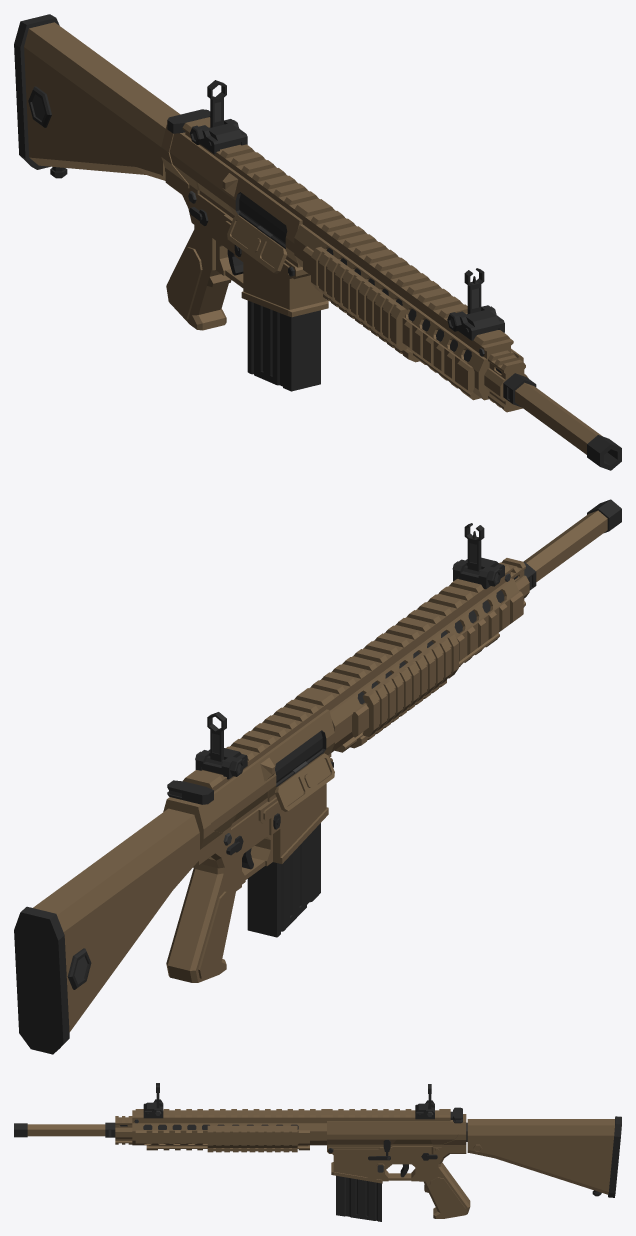
File: DMR_B.fbx
The picture shows the model from 3 angles, top to bottom: view 1: azimuth 30°, elevation 25°; view 2: azimuth 150°, elevation 25°; view 3: azimuth 270°, elevation 25°; orthographic projection. The views are drawn at different scales.
Visible parts, largest first — view 1: DMR_B_Stock, DMR_B_BarrelGuard, DMR_B_Receiver_Up, DMR_B_Receiver_Down, DMR_B_Mag, DMR_B_Grip, DMR_B_BarrelGuard_Chip_Right, DMR_B_Barrel, DMR_B_Sight_Back, DMR_B_Sight_Forward, DMR_B_Sight_Forward_Part, DMR_B_Sight_Back_Part; view 2: DMR_B_Stock, DMR_B_BarrelGuard, DMR_B_Receiver_Up, DMR_B_Receiver_Down, DMR_B_Grip, DMR_B_Mag, DMR_B_BarrelGuard_Chip_Right, DMR_B_Barrel, DMR_B_Sight_Back, DMR_B_Sight_Forward, DMR_B_Bolt; view 3: DMR_B_Stock, DMR_B_BarrelGuard, DMR_B_Receiver_Up, DMR_B_Receiver_Down, DMR_B_BarrelGuard_Chip_Left, DMR_B_Grip, DMR_B_Mag, DMR_B_Barrel, DMR_B_BarrelGuard_Chip_Down, DMR_B_Sight_Forward, DMR_B_Sight_Back.
Boxes of the visible parts, box(x1,y1,x2,y2) form: DMR_B_Stock: box(14, 14, 180, 180); DMR_B_BarrelGuard: box(294, 203, 528, 412); DMR_B_Receiver_Up: box(169, 117, 326, 273); DMR_B_Receiver_Down: box(161, 124, 328, 317); DMR_B_Mag: box(247, 300, 320, 391); DMR_B_Grip: box(166, 225, 231, 330); DMR_B_BarrelGuard_Chip_Right: box(311, 247, 407, 350); DMR_B_Barrel: box(503, 373, 621, 470); DMR_B_Sight_Back: box(190, 119, 247, 154); DMR_B_Sight_Forward: box(447, 305, 504, 340); DMR_B_Sight_Forward_Part: box(464, 268, 484, 313); DMR_B_Sight_Back_Part: box(207, 80, 226, 127); DMR_B_Stock: box(14, 808, 199, 1054); DMR_B_BarrelGuard: box(303, 558, 529, 752); DMR_B_Receiver_Up: box(183, 692, 334, 835); DMR_B_Receiver_Down: box(163, 758, 333, 884); DMR_B_Grip: box(166, 855, 241, 982); DMR_B_Mag: box(247, 823, 320, 937); DMR_B_BarrelGuard_Chip_Right: box(362, 633, 458, 736); DMR_B_Barrel: box(523, 499, 621, 590); DMR_B_Sight_Back: box(195, 748, 247, 779); DMR_B_Sight_Forward: box(452, 557, 504, 589); DMR_B_Bolt: box(167, 780, 213, 804); DMR_B_Stock: box(467, 1116, 621, 1197); DMR_B_BarrelGuard: box(115, 1109, 326, 1150); DMR_B_Receiver_Up: box(327, 1109, 458, 1146); DMR_B_Receiver_Down: box(327, 1114, 467, 1183); DMR_B_BarrelGuard_Chip_Left: box(207, 1125, 297, 1148); DMR_B_Grip: box(419, 1162, 470, 1218); DMR_B_Mag: box(336, 1175, 381, 1221); DMR_B_Barrel: box(14, 1122, 115, 1137); DMR_B_BarrelGuard_Chip_Down: box(207, 1148, 297, 1152); DMR_B_Sight_Forward: box(143, 1099, 163, 1118); DMR_B_Sight_Back: box(415, 1100, 434, 1119).
Size of the model in its own units: 0.085 by 0.3287 by 1.35.
